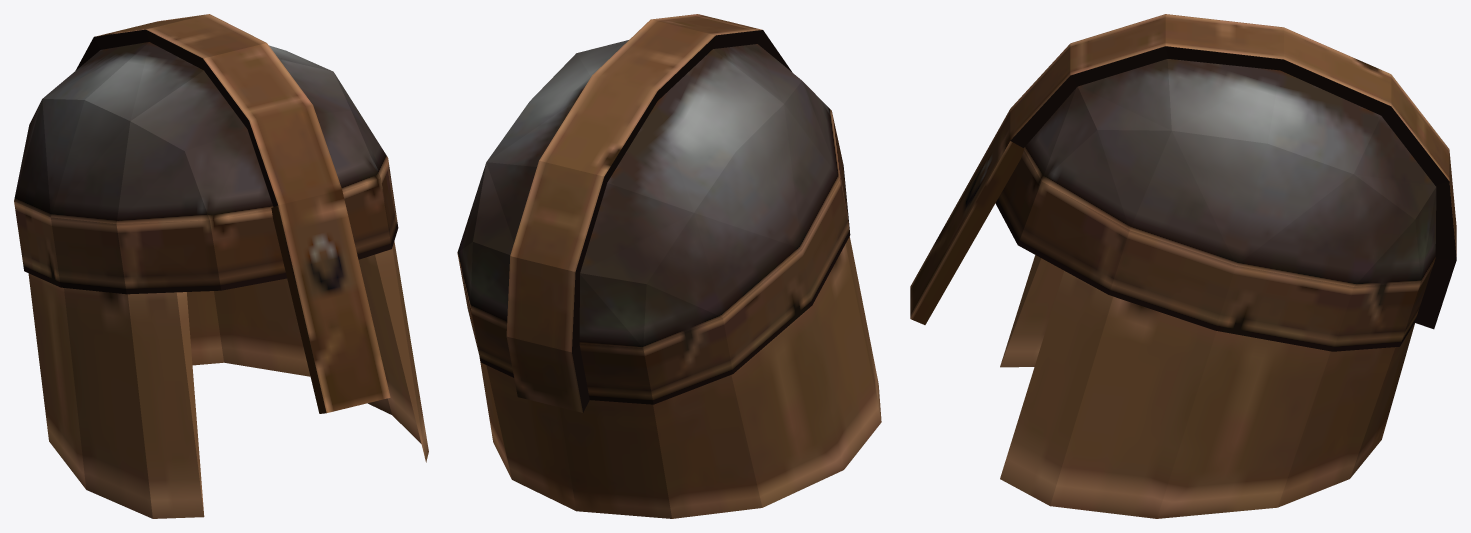
The model's file is Helmet.FBX.
3 renders of one model, left to right at view 1: azimuth 30°, elevation 25°; view 2: azimuth 150°, elevation 25°; view 3: azimuth 270°, elevation 25°, orthographic. The views are drawn at different scales.
Parts seen in each view (by area): view 1: Helmet; view 2: Helmet; view 3: Helmet.
Part boxes in pixels (x1,y1,x2,y2): Helmet: (14, 14, 428, 518); Helmet: (457, 14, 881, 518); Helmet: (910, 14, 1456, 518).
Size of the model in its own units: 23.97 by 29.86 by 35.91.
Materials: 1 (1 with a texture image).
